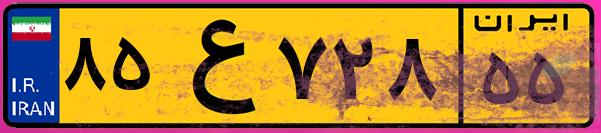2: (330, 28, 385, 110)
5: (475, 38, 525, 113), (525, 38, 570, 115), (110, 28, 158, 98)
7: (270, 28, 330, 110)
8: (385, 28, 445, 110), (57, 26, 110, 100)
ع: (158, 12, 270, 120)
